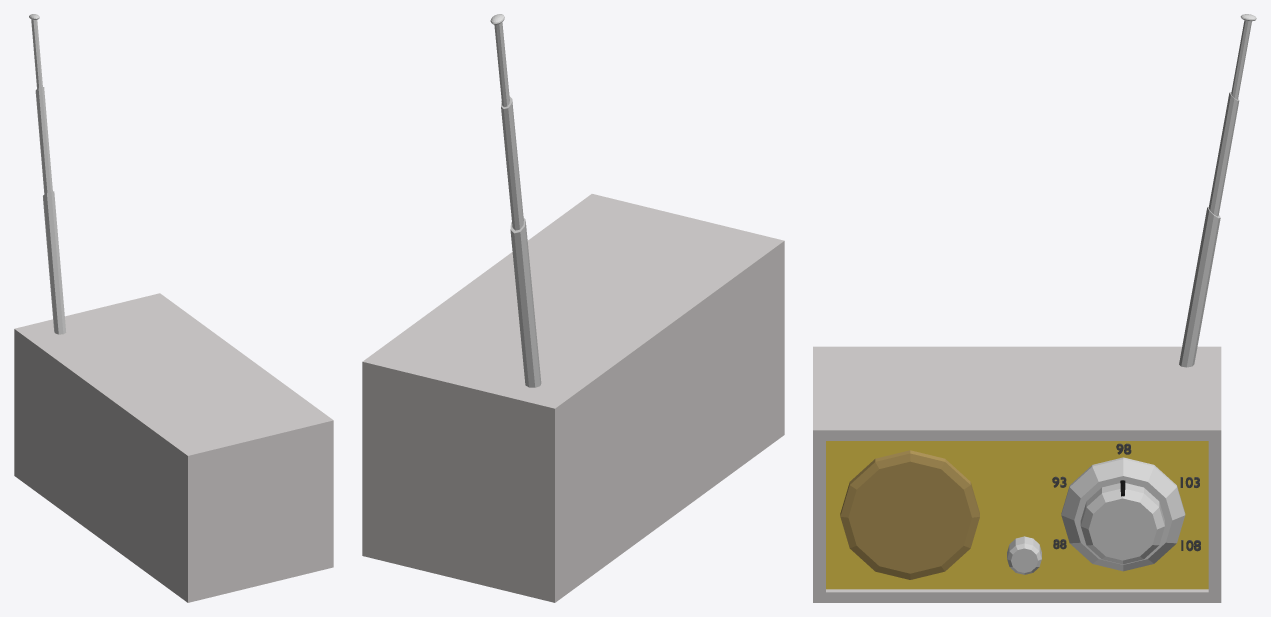
The model's file is Radio.fbx.
3 views of the same model, side by side, from view 1: azimuth 30°, elevation 25°; view 2: azimuth 150°, elevation 25°; view 3: azimuth 270°, elevation 25° (orthographic). The views are drawn at different scales.
Visible parts, largest first — view 1: Cube low, antenne 1 L, antenne 2 L, antenne 3 L; view 2: Cube low, antenne 1 L, antenne 2 L, antenne 3 L; view 3: Cube low, speaker low, kanaler indikator low, kanaler low, antenne 1 L, antenne 2 L, lyd low, antenne 3 L.
Part boxes in pixels (x1,y1,x2,y2): Cube low: [14, 293, 333, 602]; antenne 1 L: [43, 191, 66, 334]; antenne 2 L: [35, 87, 52, 194]; antenne 3 L: [31, 19, 42, 88]; Cube low: [362, 194, 784, 602]; antenne 1 L: [510, 218, 541, 387]; antenne 2 L: [501, 96, 523, 230]; antenne 3 L: [494, 22, 509, 106]; Cube low: [813, 346, 1221, 602]; speaker low: [840, 450, 979, 579]; kanaler indikator low: [1061, 457, 1185, 571]; kanaler low: [1080, 480, 1164, 564]; antenne 1 L: [1179, 206, 1220, 367]; antenne 2 L: [1208, 92, 1239, 216]; lyd low: [1007, 536, 1041, 574]; antenne 3 L: [1231, 20, 1251, 99].
Bounding box in the file's own units: 240 × 605 × 466.
